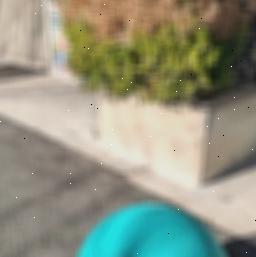algae: (66, 196, 240, 257)
